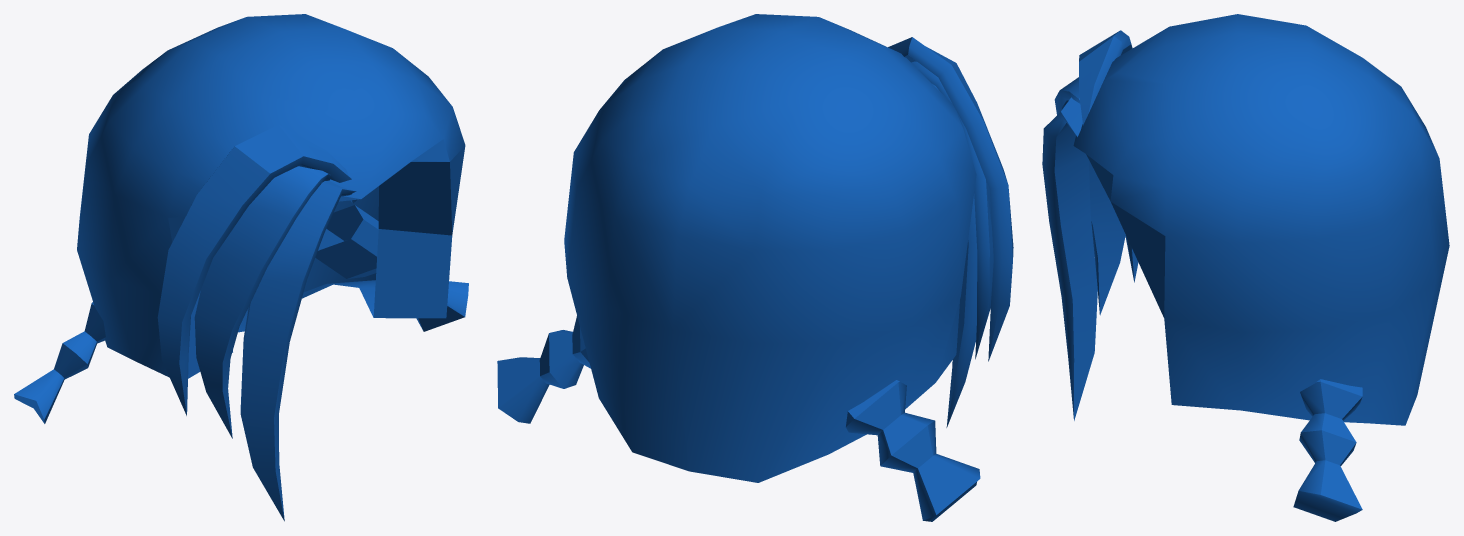
File: jinx_hair.fbx
The picture shows the model from 3 angles, left to right: view 1: azimuth 30°, elevation 25°; view 2: azimuth 150°, elevation 25°; view 3: azimuth 270°, elevation 25°; orthographic projection. The views are drawn at different scales.
Parts seen in each view (by area): view 1: jinx_hair; view 2: jinx_hair; view 3: jinx_hair.
Part boxes in pixels (<box>): jinx_hair: <box>14,14,468,521</box>; jinx_hair: <box>497,14,1013,521</box>; jinx_hair: <box>1042,14,1449,521</box>.
Size of the model in its own units: 171 by 149 by 128.
